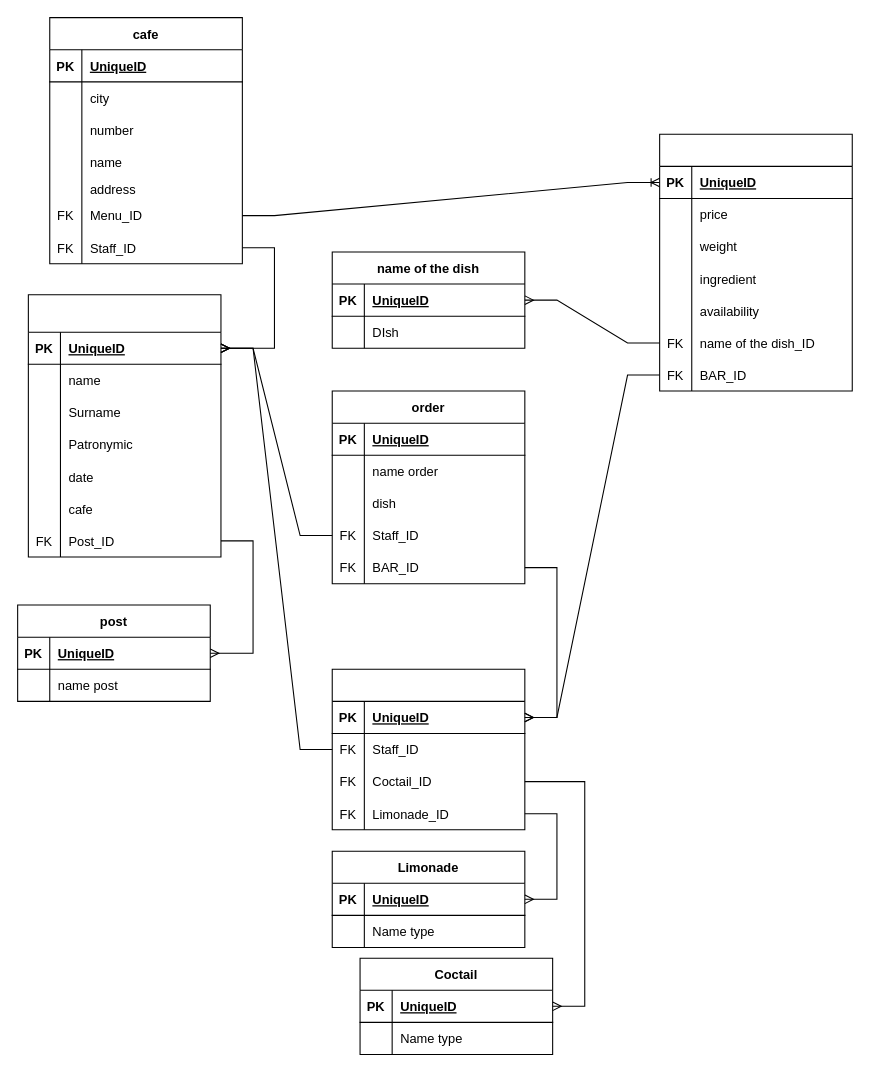
Some shapes in this 870 by 1072 pixel diagram are drawn without their labels. Here are the shapes that lost their labels. From the top down, the box of each, then its label:
(659, 133, 852, 391): Menu
(27, 294, 221, 557): staff
(331, 668, 525, 830): BAR
